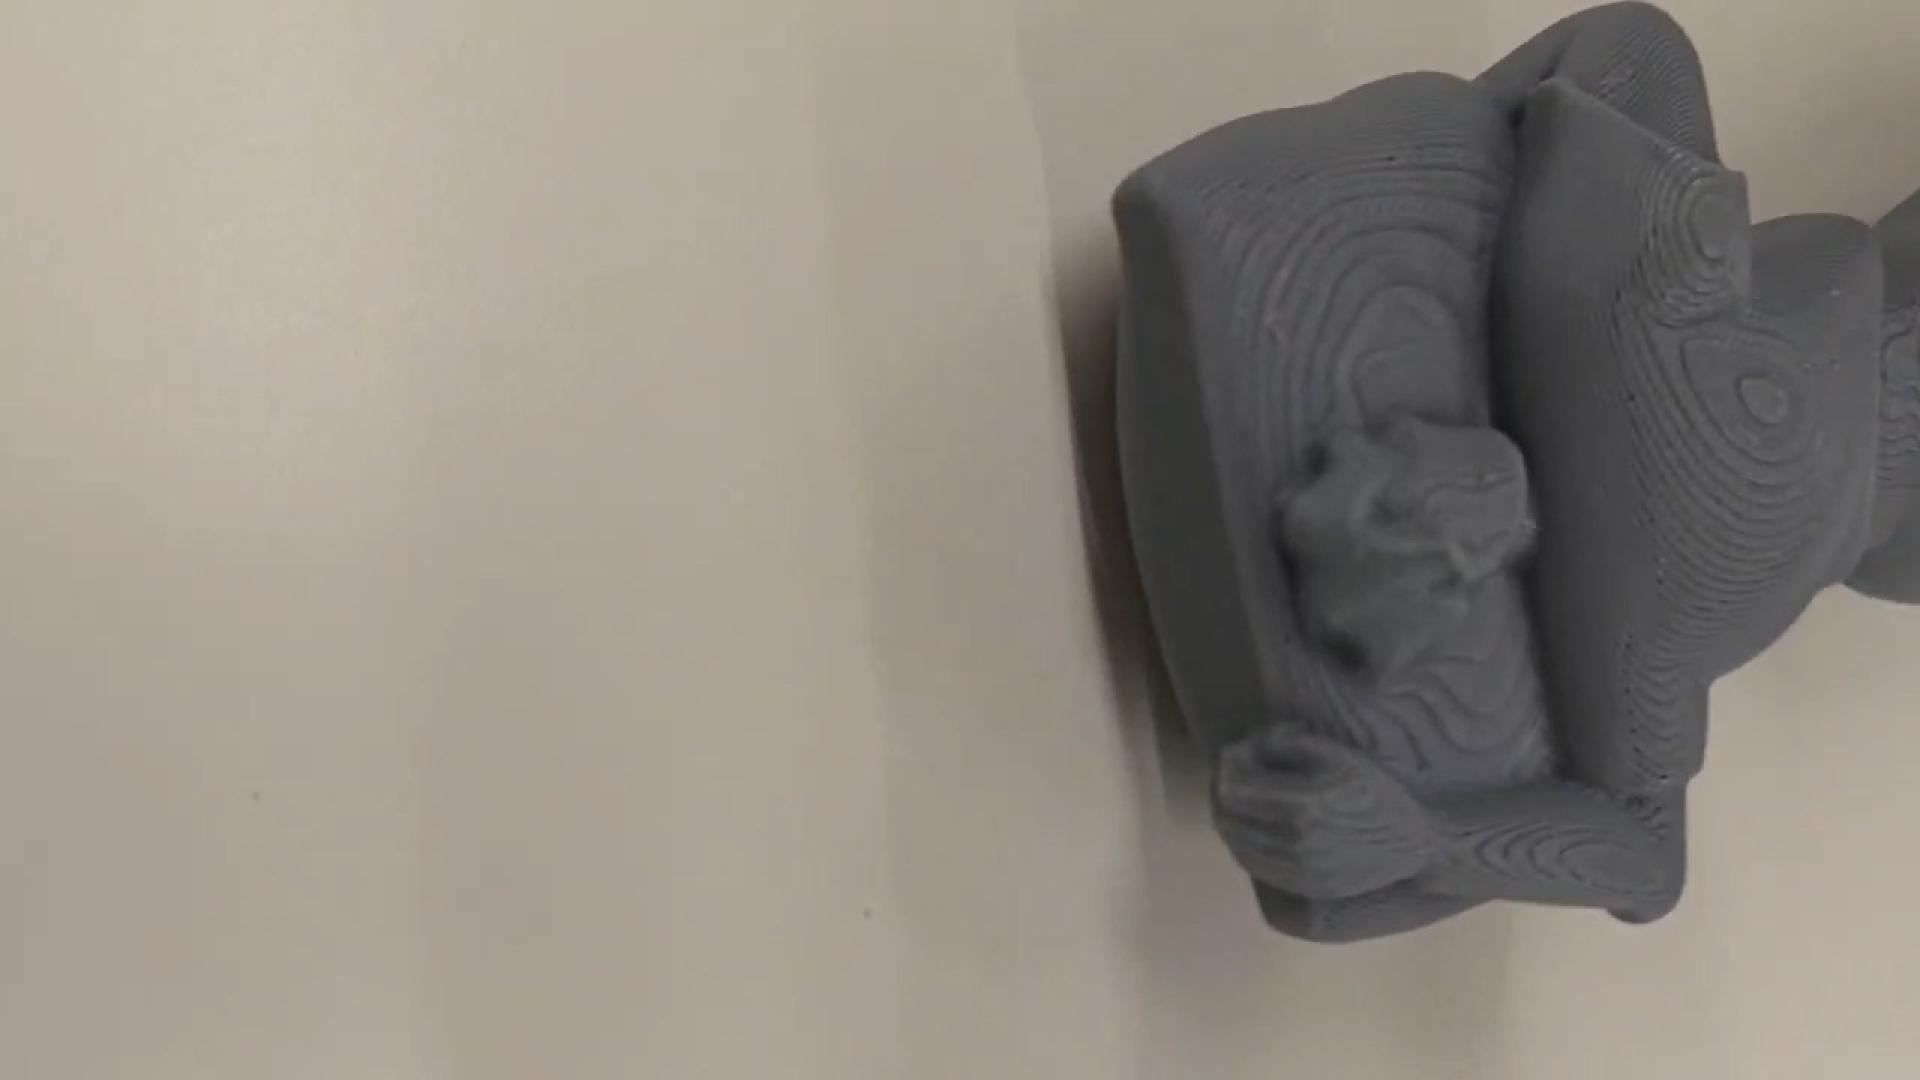Bad-style: (1118, 0, 1920, 957)
